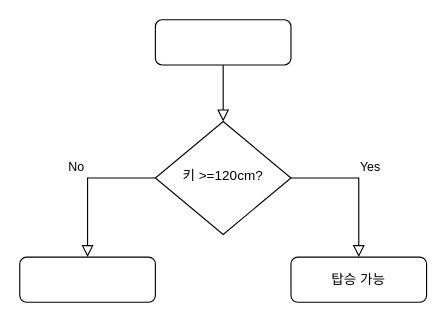
Image size: 446x322. Some labels were removed from this diagram. The box of each missing label's shape, as (x1, y1, x2, y2) in pixels:
롤러코스터: (154, 19, 291, 65)
탑승 불가: (19, 256, 155, 302)
